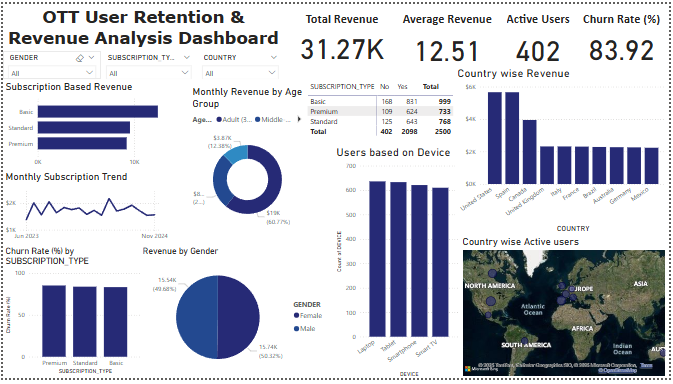

The dashboard page shown, as its layout file describes it:
{"tool":"powerbi","page":{"name":"Page 1","canvas":[1280,720],"ordinal":0},"visuals":[{"type":"card","title":"Total Revenue","fields":{"Values":["NETFLIX_USERS.Total_Revenue"]},"box":[539.7,12.7,223.8,104.8],"z":0},{"type":"card","title":"Churn Rate (%)","fields":{"Values":["NETFLIX_USERS.Churn Rate (%)"]},"box":[1100,12.7,179.4,109.5],"z":1000},{"type":"card","title":"Active Users","fields":{"Values":["NETFLIX_USERS.Active Users"]},"box":[942.9,12.7,173,109.5],"z":2000},{"type":"donutChart","title":"Monthly Revenue by Age Group","fields":{"Category":["NETFLIX_USERS.Age Group"],"Y":["Sum(NETFLIX_USERS.MONTHLY_REVENUE)"]},"box":[360,158,221,286.8],"z":3000},{"type":"pieChart","title":"Revenue by Gender","fields":{"Category":["NETFLIX_USERS.GENDER"],"Y":["NETFLIX_USERS.Total_Revenue"]},"box":[263.8,466.2,372.5,255],"z":4000},{"type":"columnChart","title":"Users based on Device","fields":{"Category":["NETFLIX_USERS.DEVICE"],"Y":["CountNonNull(NETFLIX_USERS.DEVICE)"]},"box":[636.2,272.5,242.5,448.8],"z":5000},{"type":"card","title":"Average Revenue","fields":{"Values":["NETFLIX_USERS.Average_Revenue"]},"box":[739.7,12.7,228.6,109.5],"z":6000},{"type":"barChart","title":"Subscription Based Revenue","fields":{"Category":["NETFLIX_USERS.SUBSCRIPTION_TYPE"],"Y":["NETFLIX_USERS.Total_Revenue"]},"box":[0,147.8,360,174.1],"z":7000},{"type":"clusteredColumnChart","title":"Country wise Revenue","fields":{"Category":["NETFLIX_USERS.COUNTRY"],"Y":["Sum(NETFLIX_USERS.MONTHLY_REVENUE)"]},"box":[870,122,410,324],"z":8000},{"type":"lineChart","title":"Monthly Subscription Trend","fields":{"Y":["Sum(NETFLIX_USERS.MONTHLY_REVENUE)"],"Category":["NETFLIX_USERS.JOIN_DATE.Variation.Date Hierarchy.Year","NETFLIX_USERS.JOIN_DATE.Variation.Date Hierarchy.Month"]},"box":[0,322,323.4,143.4],"z":9000},{"type":"map","title":"Country wise Active users","fields":{"Category":["NETFLIX_USERS.COUNTRY"],"Size":["NETFLIX_USERS.Active Users"]},"box":[879.4,446,400,274.6],"z":10000},{"type":"pivotTable","fields":{"Rows":["NETFLIX_USERS.SUBSCRIPTION_TYPE"],"Columns":["NETFLIX_USERS.Churn_flag"],"Values":["CountNonNull(NETFLIX_USERS.USER_ID)"]},"box":[581.2,145,293.8,127.5],"z":11000},{"type":"textbox","box":[0,0,539.7,106.3],"z":12000},{"type":"slicer","fields":{"Values":["NETFLIX_USERS.GENDER"]},"box":[0,90.5,188.9,54],"z":13000},{"type":"slicer","fields":{"Values":["NETFLIX_USERS.SUBSCRIPTION_TYPE"]},"box":[188.9,90.5,184.1,54],"z":14000},{"type":"slicer","fields":{"Values":["NETFLIX_USERS.COUNTRY"]},"box":[373.2,90.7,166.8,54.1],"z":15000},{"type":"columnChart","fields":{"Y":["NETFLIX_USERS.Churn Rate (%)"],"Category":["NETFLIX_USERS.SUBSCRIPTION_TYPE"]},"box":[0,466,270,252],"z":16000}]}

Visuals, with their boxes in screenshot pixels (x1, y1, x2, y2), scaled from the page's 1280x720 canvas onto the 673x384 screenshot:
"Total Revenue" card: bbox(284, 7, 401, 63)
"Churn Rate (%)" card: bbox(578, 7, 672, 65)
"Active Users" card: bbox(496, 7, 587, 65)
"Monthly Revenue by Age Group" donutChart: bbox(189, 84, 305, 237)
"Revenue by Gender" pieChart: bbox(139, 249, 335, 383)
"Users based on Device" columnChart: bbox(335, 145, 462, 383)
"Average Revenue" card: bbox(389, 7, 509, 65)
"Subscription Based Revenue" barChart: bbox(0, 79, 189, 172)
"Country wise Revenue" clusteredColumnChart: bbox(457, 65, 672, 238)
"Monthly Subscription Trend" lineChart: bbox(0, 172, 170, 248)
"Country wise Active users" map: bbox(462, 238, 672, 383)
pivotTable - NETFLIX_USERS.SUBSCRIPTION_TYPE x NETFLIX_USERS.Churn_flag: bbox(306, 77, 460, 145)
textbox: bbox(0, 0, 284, 57)
slicer - NETFLIX_USERS.GENDER: bbox(0, 48, 99, 77)
slicer - NETFLIX_USERS.SUBSCRIPTION_TYPE: bbox(99, 48, 196, 77)
slicer - NETFLIX_USERS.COUNTRY: bbox(196, 48, 284, 77)
columnChart - NETFLIX_USERS.Churn Rate (%) x NETFLIX_USERS.SUBSCRIPTION_TYPE: bbox(0, 249, 142, 383)
